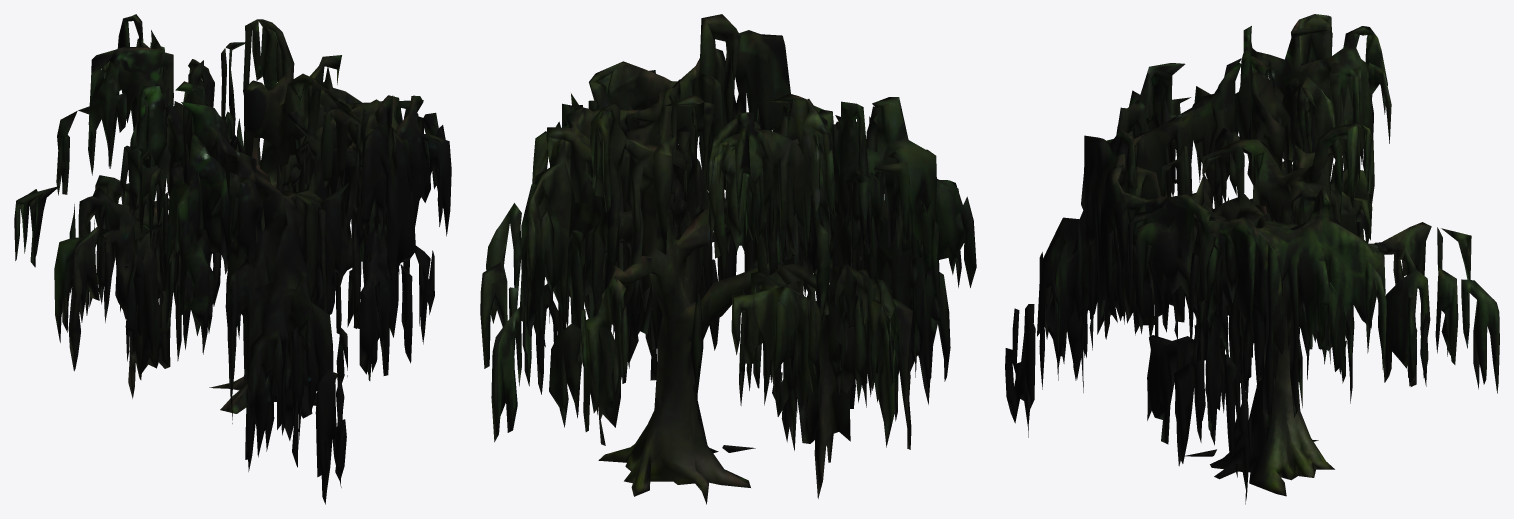
Rendered from Ultra_realistic_low_p_1021171148_texture.fbx.
3 views of the same model, side by side, from view 1: azimuth 30°, elevation 25°; view 2: azimuth 150°, elevation 25°; view 3: azimuth 270°, elevation 25° (orthographic). The views are drawn at different scales.
Parts seen in each view (by area): view 1: Mesh1.0; view 2: Mesh1.0; view 3: Mesh1.0.
Part boxes in pixels (x1=…): Mesh1.0: x1=14, y1=14, x2=451, y2=504; Mesh1.0: x1=480, y1=14, x2=976, y2=504; Mesh1.0: x1=1005, y1=14, x2=1499, y2=504.
Bounding box in the file's own units: 180 × 176 × 200.
1 material, 1 textured.
